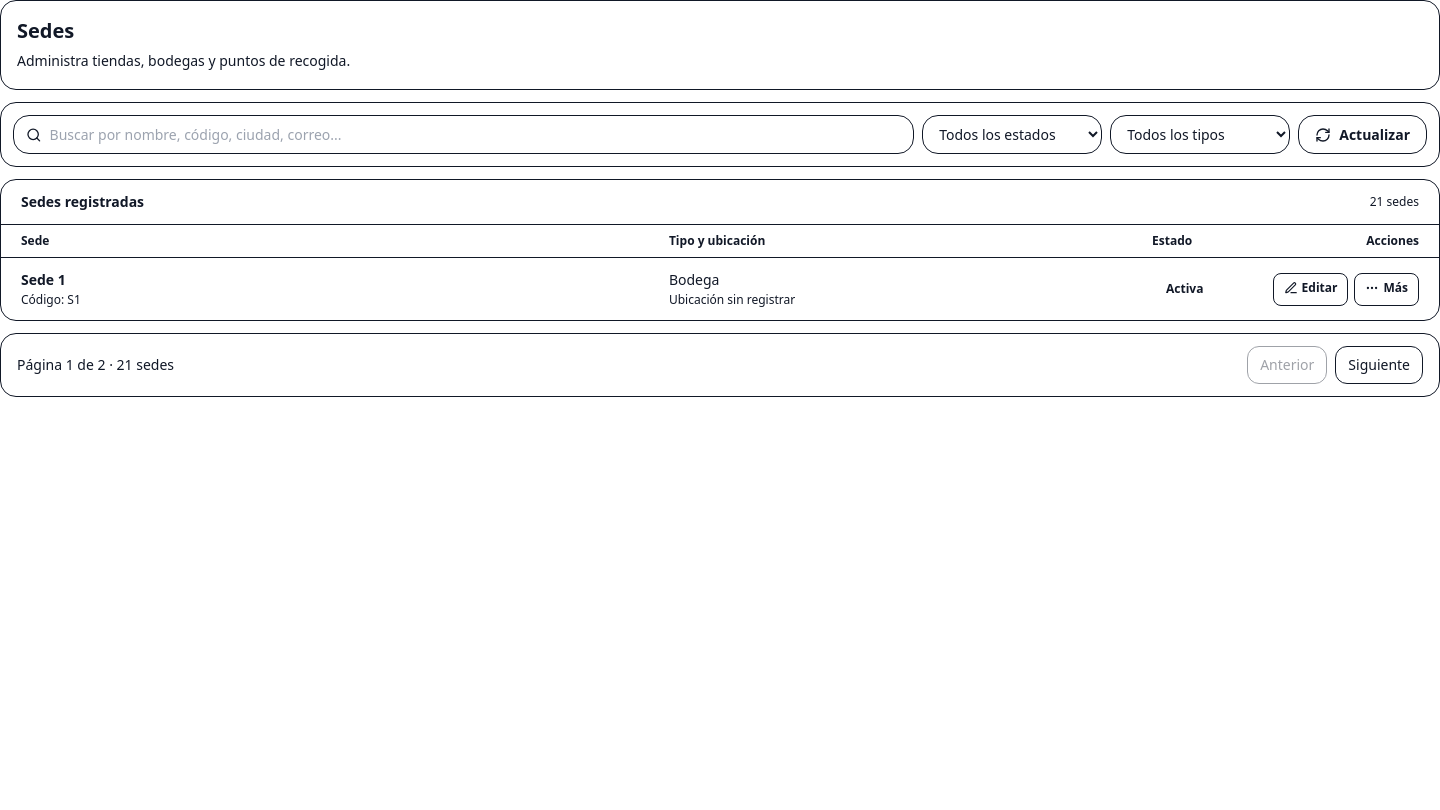
Test: deja editar datos de la sede sin conceder cambio de estado
The image size is (1440, 810).
Expected: the text "Sede 1" is shown, [21,270,66,290]
What coordinates should you click on to do the following:
click the button with aria-label "Editar Sede 1"
I would click on:
 (1311, 289)
Its box is [1273,272,1348,306].
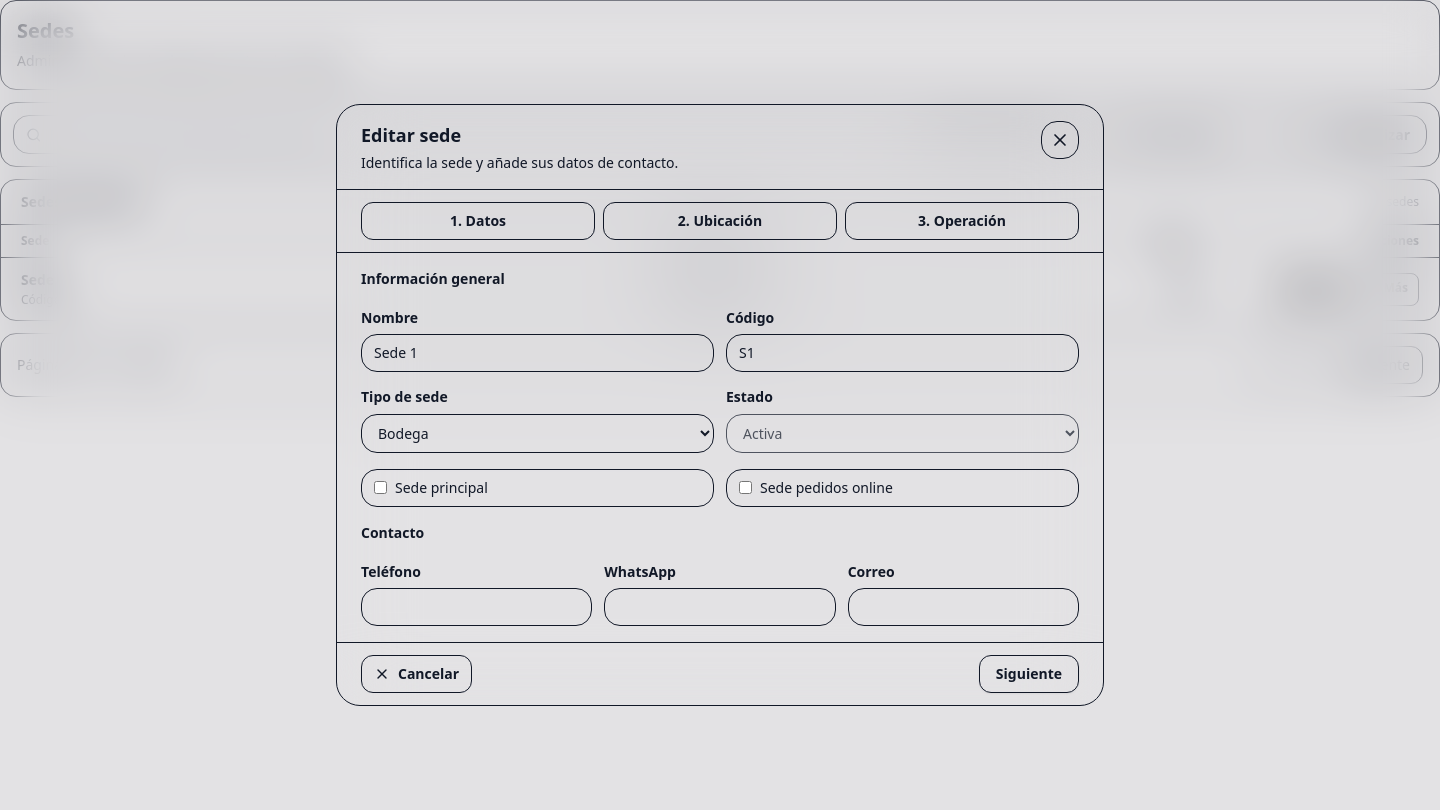
Expected: the dialog "Editar sede" is shown
Expected: the dropdown labelled "Estado" is disabled, [726,414,1079,453]
